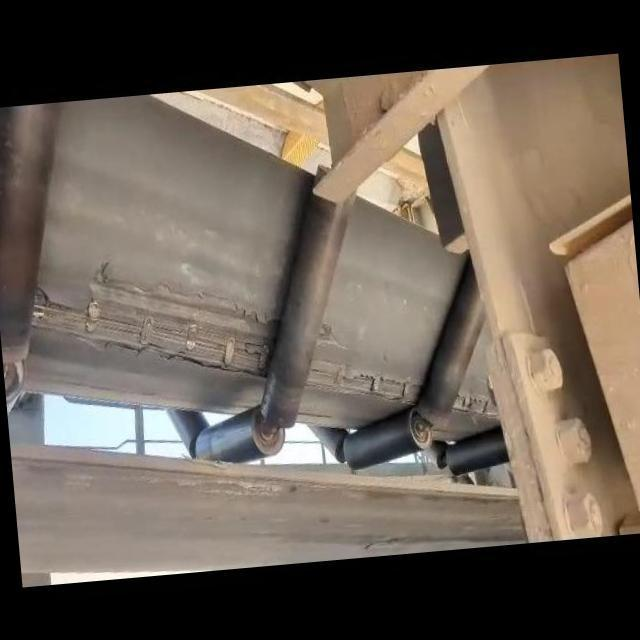Tear: (22, 230, 294, 406), (305, 356, 424, 416)
Wear: (309, 321, 346, 348)
